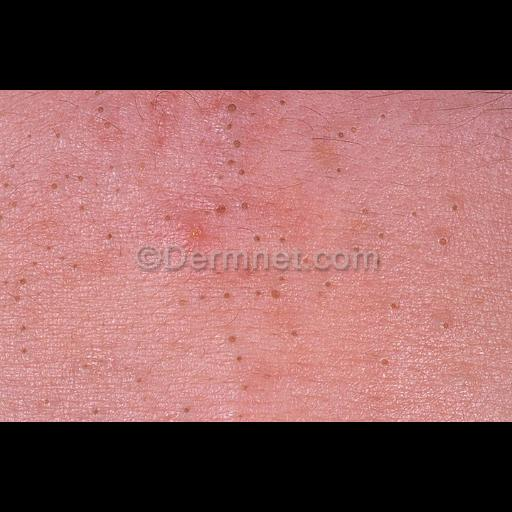Skin_Lesion: (216, 353, 262, 421), (200, 112, 252, 150), (348, 208, 388, 248), (84, 109, 122, 149), (252, 216, 294, 250), (162, 216, 202, 250), (190, 269, 218, 315), (2, 350, 34, 390), (210, 194, 250, 222), (219, 336, 249, 372), (429, 324, 457, 362), (144, 124, 178, 154), (242, 268, 266, 310), (40, 190, 74, 216), (0, 296, 22, 334), (216, 160, 248, 186), (328, 122, 362, 144), (269, 272, 289, 308), (373, 90, 423, 104), (98, 220, 120, 250), (0, 209, 22, 237), (434, 232, 462, 254), (318, 272, 342, 296), (0, 96, 14, 136), (48, 130, 72, 150), (372, 352, 396, 372), (156, 104, 182, 122), (285, 322, 305, 344), (0, 170, 16, 196), (42, 180, 70, 194), (274, 93, 292, 111), (228, 90, 260, 100), (224, 100, 240, 116), (14, 277, 32, 291), (90, 90, 108, 98)
